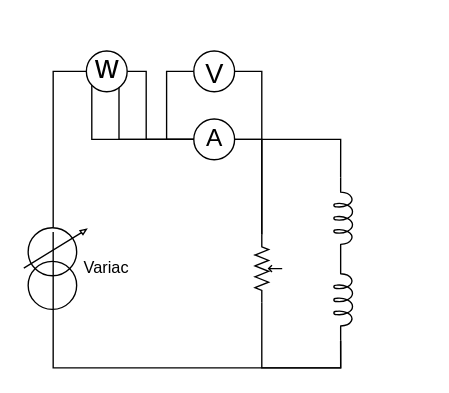
Some shapes in this 449 by 393 pixel diagram are drawn without their labels. Each missing label, with the box of its shape:
L1 0.16H: (333, 176, 353, 259)
L2 0.16H: (333, 258, 353, 341)
